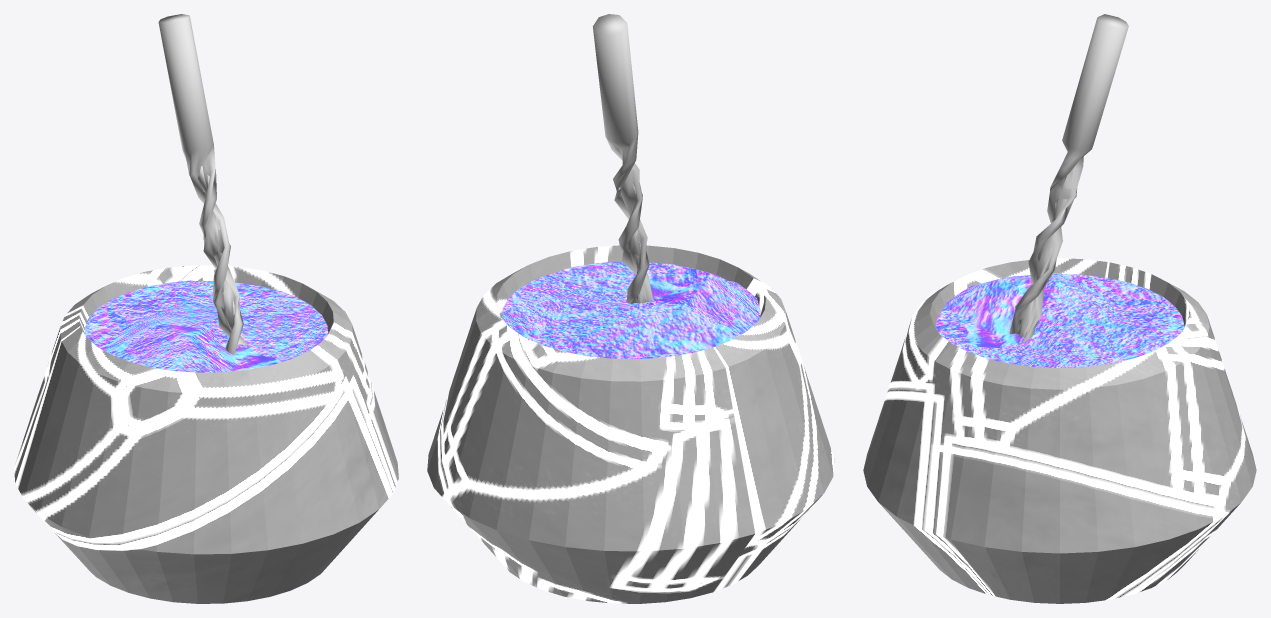
Rendered from cauldronFull.glb.
3 renders of one model, left to right at view 1: azimuth 30°, elevation 25°; view 2: azimuth 150°, elevation 25°; view 3: azimuth 270°, elevation 25°, orthographic. The views are drawn at different scales.
Parts seen in each view (by area): view 1: Pot, Liquid, drillBit; view 2: Pot, Liquid, drillBit; view 3: Pot, Liquid, drillBit.
Part boxes in pixels (x1,y1,x2,y2): Pot: [14, 265, 398, 603]; Liquid: [84, 280, 328, 372]; drillBit: [158, 14, 246, 354]; Pot: [427, 245, 834, 603]; Liquid: [502, 261, 760, 358]; drillBit: [592, 14, 653, 303]; Pot: [863, 258, 1256, 603]; Liquid: [935, 273, 1184, 367]; drillBit: [1009, 14, 1128, 342].
Size of the model in its own units: 3.02 by 4.48 by 3.02.
Materials: 3 (1 with a texture image).
